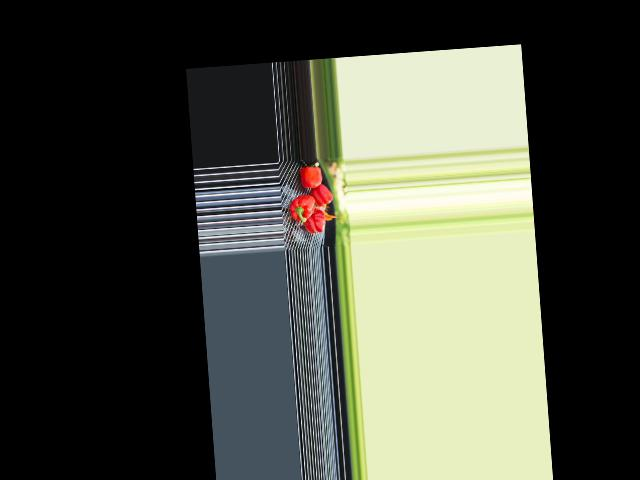bell_pepper: (304, 207, 327, 234)
